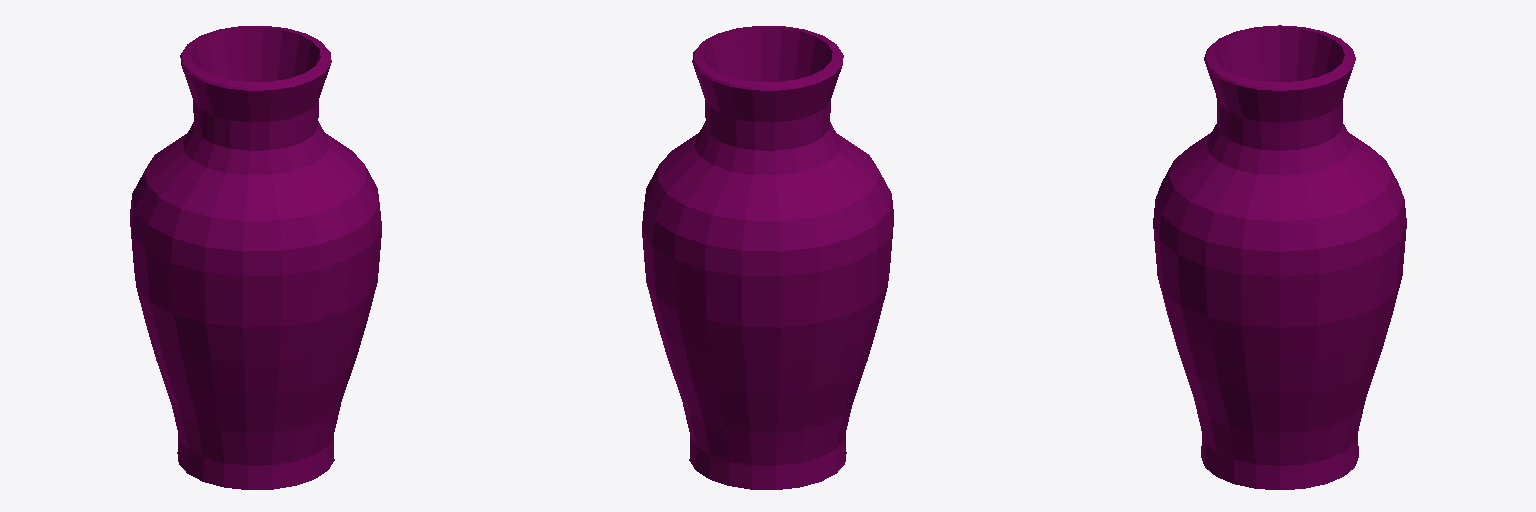
The model's file is Texture_Vase.obj.
3 renders of one model, left to right at view 1: azimuth 30°, elevation 25°; view 2: azimuth 150°, elevation 25°; view 3: azimuth 270°, elevation 25°, orthographic.
Visible parts, largest first — view 1: Vase; view 2: Vase; view 3: Vase.
Part boxes in pixels (left/top/right/bottom): Vase: left=130, top=26, right=381, bottom=489; Vase: left=642, top=26, right=893, bottom=489; Vase: left=1153, top=25, right=1406, bottom=489.
Bounding box in the file's own units: 5.88 × 10.27 × 5.88.